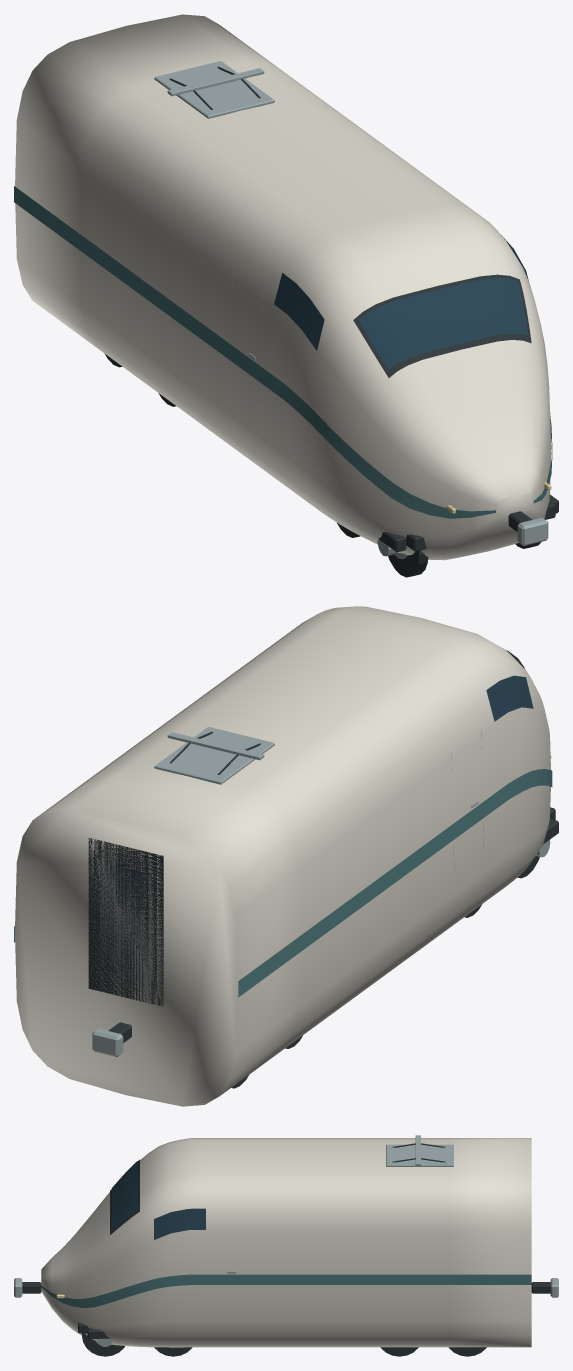
File: train-loco-01-v2.glb
The picture shows the model from 3 angles, top to bottom: view 1: azimuth 30°, elevation 25°; view 2: azimuth 150°, elevation 25°; view 3: azimuth 270°, elevation 25°; orthographic projection. The views are drawn at different scales.
Parts seen in each view (by area): view 1: StreamlinedMonocoque, LowWrapWindscreen, ContinuousSideBand, PantographBase, WindscreenSeal, DriverSideRibbonGlass, CouplerHead_Front, RailWheel, PantographContactBar; view 2: StreamlinedMonocoque, RearGangway, ContinuousSideBand, RearGangwayDoor, PantographBase, DriverSideRibbonGlass, CouplerHead_Rear, PantographContactBar; view 3: StreamlinedMonocoque, ContinuousSideBand.001, PantographBase, LowWrapWindscreen, DriverSideRibbonGlass.001, RailWheel.001, WindscreenSeal.
Part boxes in pixels (bbox=[...]): StreamlinedMonocoque: bbox=[15, 14, 551, 560]; LowWrapWindscreen: bbox=[358, 278, 528, 369]; ContinuousSideBand: bbox=[14, 186, 495, 518]; PantographBase: bbox=[154, 61, 274, 118]; WindscreenSeal: bbox=[353, 274, 531, 377]; DriverSideRibbonGlass: bbox=[274, 273, 324, 350]; CouplerHead_Front: bbox=[517, 517, 548, 545]; RailWheel: bbox=[388, 550, 428, 577]; PantographContactBar: bbox=[167, 68, 264, 96]; StreamlinedMonocoque: bbox=[15, 606, 550, 1106]; RearGangway: bbox=[88, 838, 163, 1006]; ContinuousSideBand: bbox=[238, 769, 552, 997]; RearGangwayDoor: bbox=[99, 849, 152, 991]; PantographBase: bbox=[154, 727, 274, 784]; DriverSideRibbonGlass: bbox=[486, 675, 533, 721]; CouplerHead_Rear: bbox=[92, 1028, 123, 1056]; PantographContactBar: bbox=[167, 732, 264, 760]; StreamlinedMonocoque: bbox=[41, 1138, 531, 1347]; ContinuousSideBand.001: bbox=[41, 1274, 531, 1307]; PantographBase: bbox=[386, 1144, 453, 1166]; LowWrapWindscreen: bbox=[112, 1161, 137, 1230]; DriverSideRibbonGlass.001: bbox=[154, 1208, 205, 1239]; RailWheel.001: bbox=[82, 1333, 124, 1356]; WindscreenSeal: bbox=[110, 1159, 139, 1234].
Size of the model in its own units: 3 by 3.8 by 10.
